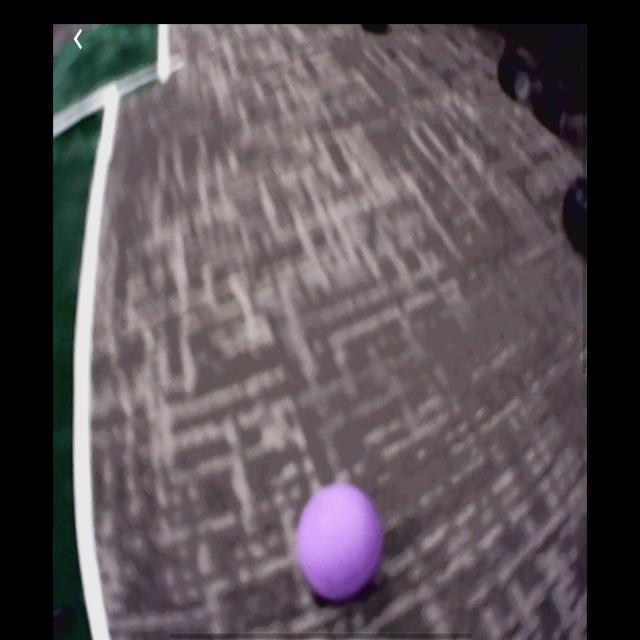ball: (297, 481, 385, 604)
